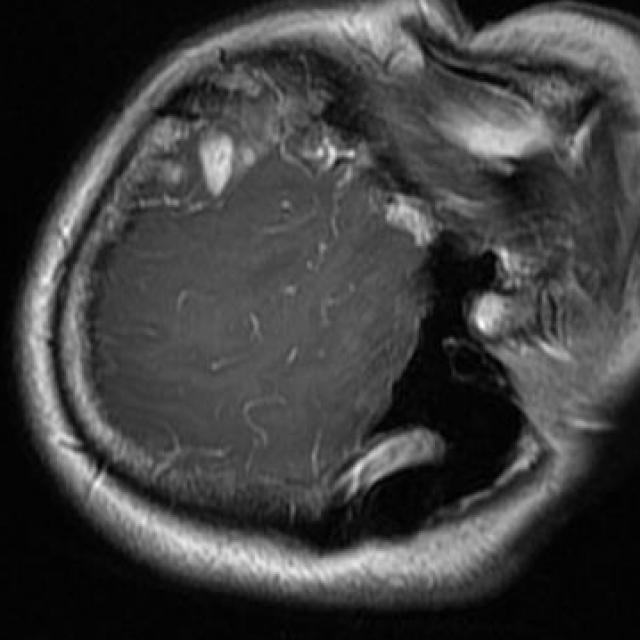glioma: (198, 93, 328, 196)
